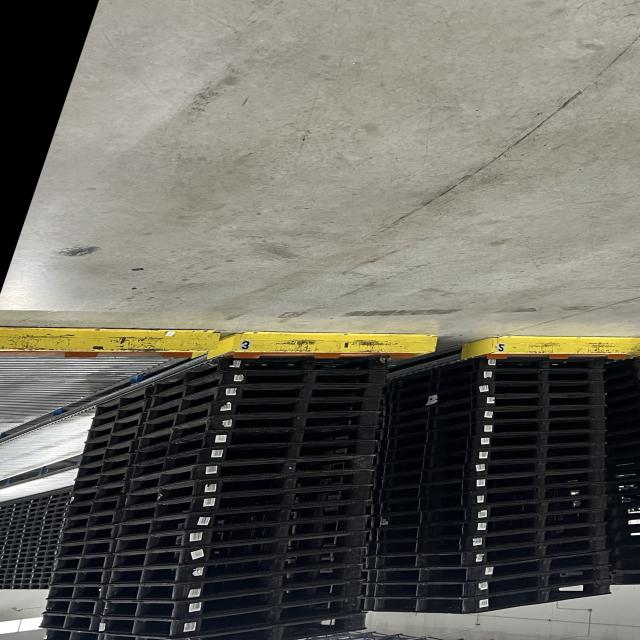igps: (163, 592, 370, 640), (168, 575, 372, 622), (169, 561, 369, 603), (171, 544, 371, 586), (176, 528, 373, 569), (178, 512, 374, 551), (180, 497, 375, 533), (166, 608, 373, 640), (457, 560, 615, 601), (185, 482, 380, 515), (188, 467, 380, 500), (456, 576, 617, 615), (192, 437, 386, 468), (460, 547, 618, 585), (456, 534, 616, 570), (454, 520, 612, 554), (456, 506, 614, 538), (198, 423, 385, 450), (460, 493, 613, 524), (202, 409, 386, 434), (462, 480, 612, 510), (204, 395, 389, 418), (462, 466, 612, 494), (458, 454, 611, 479), (210, 381, 391, 402), (462, 441, 610, 466), (461, 428, 611, 452), (466, 402, 610, 426), (214, 368, 393, 387), (215, 354, 394, 373), (464, 416, 610, 438), (467, 378, 610, 398), (466, 392, 610, 411), (466, 368, 608, 384), (476, 356, 609, 372)
